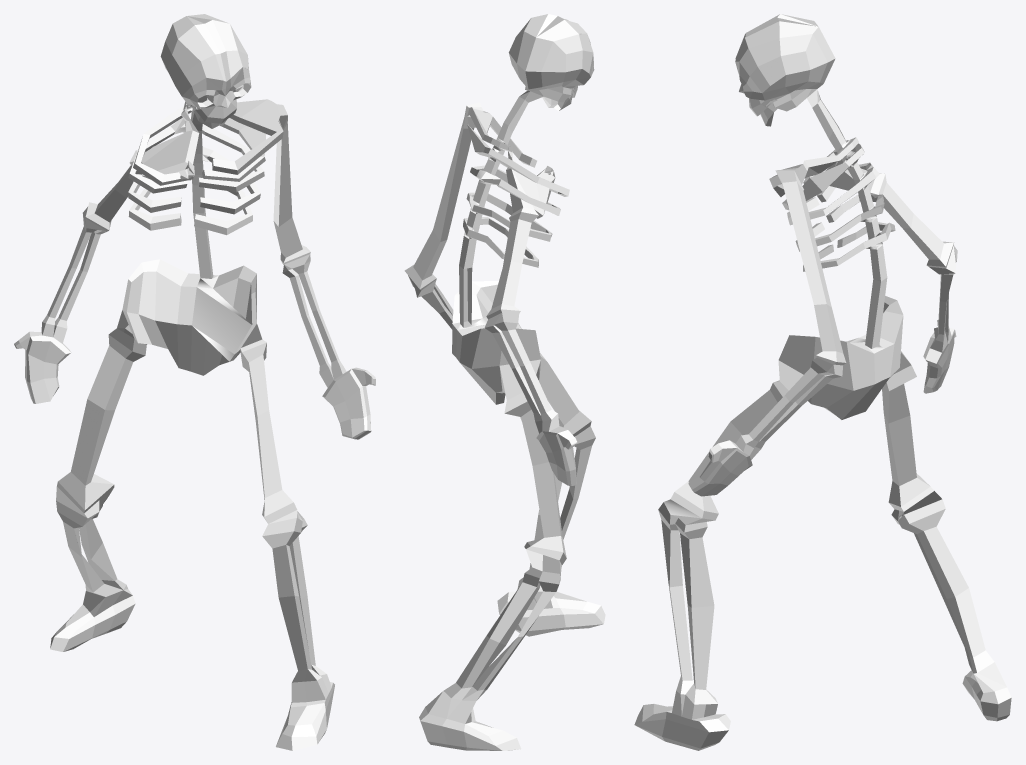
The model's file is SkeletonIdle(101).obj.
3 views of the same model, side by side, from view 1: azimuth 30°, elevation 25°; view 2: azimuth 150°, elevation 25°; view 3: azimuth 270°, elevation 25° (orthographic). The views are drawn at different scales.
Parts seen in each view (by area): view 1: Object002; view 2: Object002; view 3: Object002.
Boxes of the visible parts, x1,y1,x2,y2 form: Object002: (14, 14, 375, 750); Object002: (404, 14, 605, 750); Object002: (634, 14, 1011, 750).
Size of the model in its own units: 419 by 1125 by 555.
